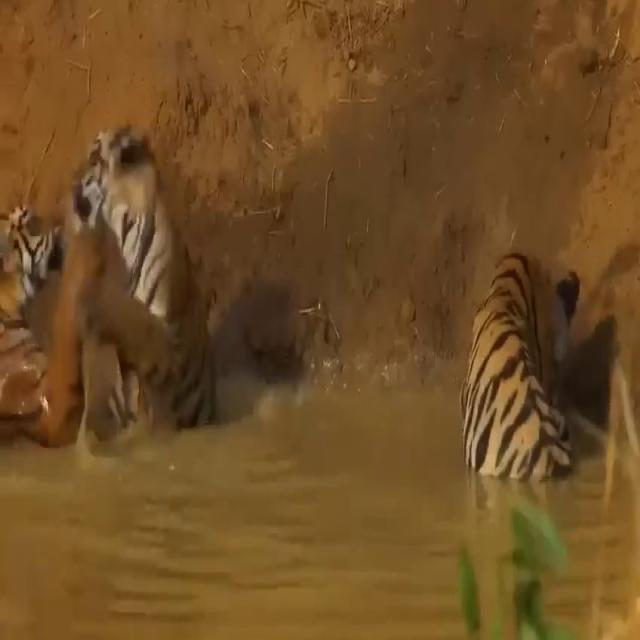tiger: (66, 122, 225, 433), (456, 240, 584, 492)
